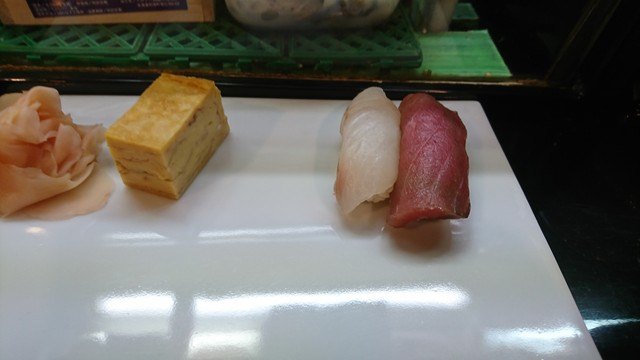medium_fatty_tuna: (401, 96, 470, 234)
